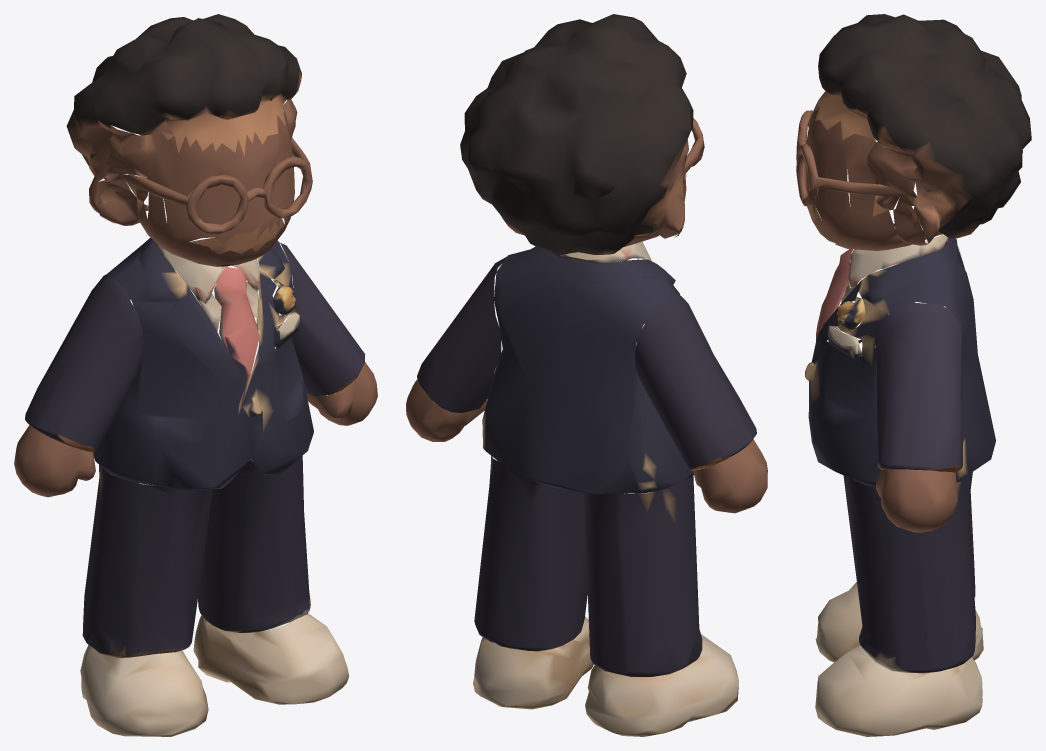
The picture shows the model from 3 angles, left to right: view 1: azimuth 30°, elevation 25°; view 2: azimuth 150°, elevation 25°; view 3: azimuth 270°, elevation 25°; orthographic projection.
Parts seen in each view (by area): view 1: top, bottom, hair, head, sleeve_r, shoe_l, shoe_r, sleeve_l, hand_r, hand_l; view 2: hair, top, bottom, sleeve_r, shoe_r, sleeve_l, shoe_l, hand_r, hand_l, head; view 3: hair, top, bottom, sleeve_l, head, shoe_l, hand_l, shoe_r.
Part boxes in pixels (<box>): top: <box>93,237,313,489</box>; bottom: <box>82,456,310,658</box>; hair: <box>66,14,301,266</box>; head: <box>90,94,312,266</box>; sleeve_r: <box>25,274,144,452</box>; shoe_l: <box>193,613,349,704</box>; shoe_r: <box>80,644,208,736</box>; sleeve_l: <box>272,242,365,396</box>; hand_r: <box>14,425,95,497</box>; hand_l: <box>306,362,377,425</box>; hair: <box>460,14,693,254</box>; top: <box>482,241,693,494</box>; bottom: <box>474,456,702,676</box>; sleeve_r: <box>635,293,756,470</box>; shoe_r: <box>585,634,738,736</box>; sleeve_l: <box>417,256,506,412</box>; shoe_l: <box>473,616,593,709</box>; hand_r: <box>693,439,767,513</box>; hand_l: <box>406,379,486,441</box>; head: <box>624,118,704,246</box>; hair: <box>807,14,1031,245</box>; top: <box>805,223,995,487</box>; bottom: <box>843,472,975,673</box>; sleeve_l: <box>837,297,962,472</box>; head: <box>796,104,930,250</box>; shoe_l: <box>815,645,982,736</box>; hand_l: <box>876,469,957,532</box>; shoe_r: <box>815,582,983,662</box>.
Size of the model in its own units: 0.5651 by 1.03 by 0.3316.
